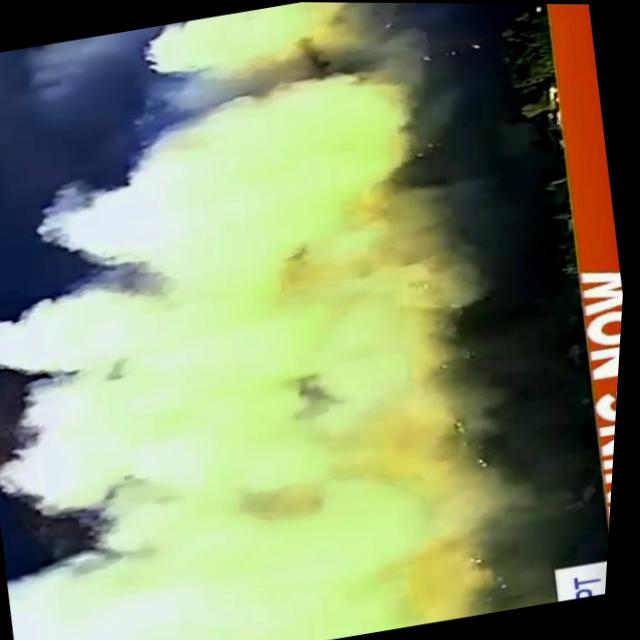smoke: (0, 0, 581, 640), (0, 118, 563, 640), (65, 0, 478, 192)
